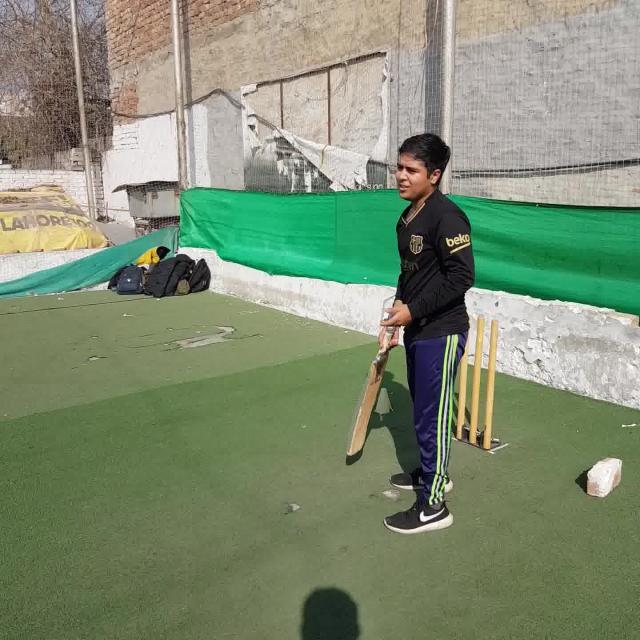bat: (347, 298, 401, 458)
